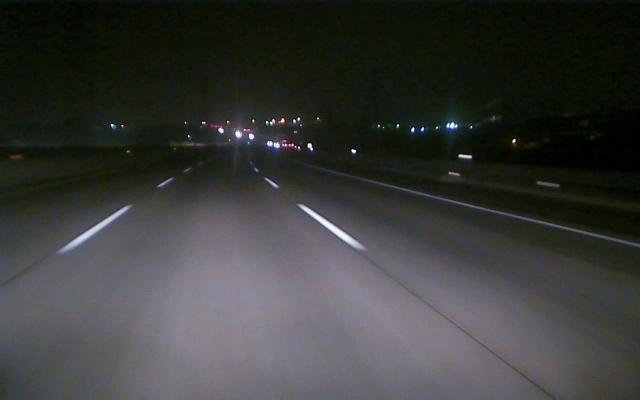lane: (329, 171, 638, 249), (53, 179, 169, 254), (264, 179, 368, 251)
